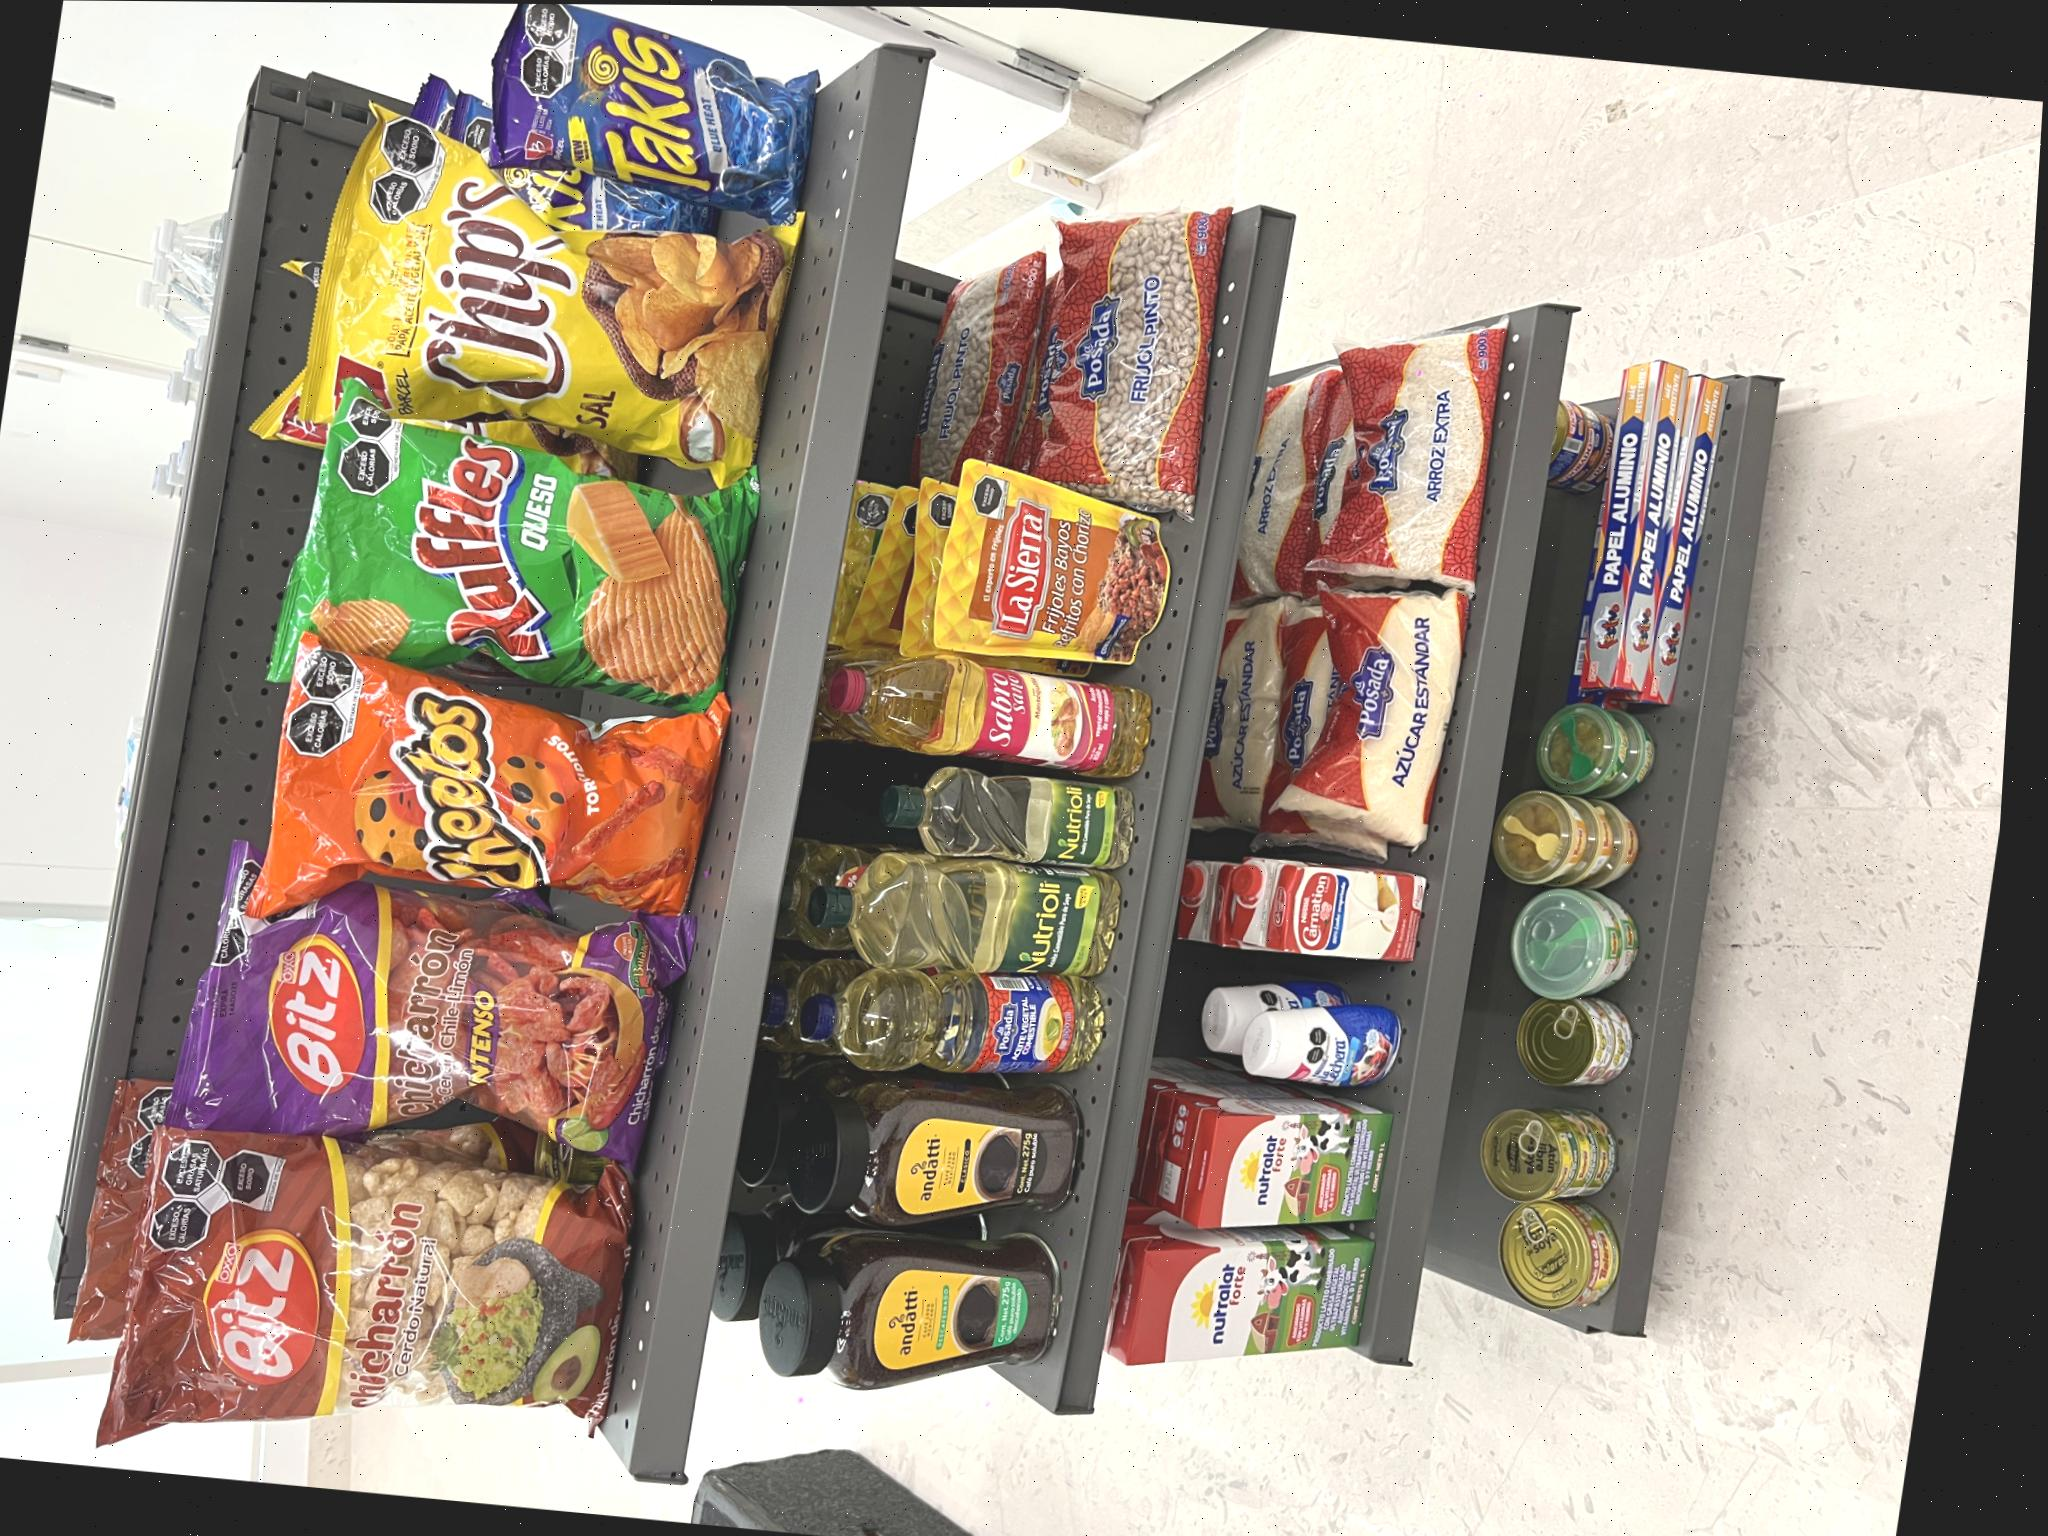aceite_nutrioli_400ml: (587, 900, 711, 1168)
aceite_nutrioli_850ml: (481, 850, 626, 1158)
aceite_posada: (376, 845, 518, 1142)
aceite_saborsano: (693, 866, 814, 1176)
andatti: (45, 826, 245, 1107), (223, 854, 389, 1134)
arroz_laposada: (861, 1336, 1126, 1507)
azucar_laposada: (616, 1315, 860, 1484)
carnation: (481, 1309, 582, 1459)
cheetos: (550, 297, 826, 749)
chicharron_bitz_intenso: (324, 227, 608, 710)
chicharron_bitz_natural: (11, 177, 381, 695)
chips_sal: (1042, 321, 1348, 781)
frijol_laposada: (964, 1049, 1258, 1221)
frijol_lasierra: (789, 957, 980, 1181)
lalechera: (353, 1289, 450, 1441)
leche_nutralatforte: (79, 1187, 234, 1421), (213, 1233, 355, 1438)
ruffles: (785, 302, 1069, 762)
takis: (1288, 511, 1467, 812)
